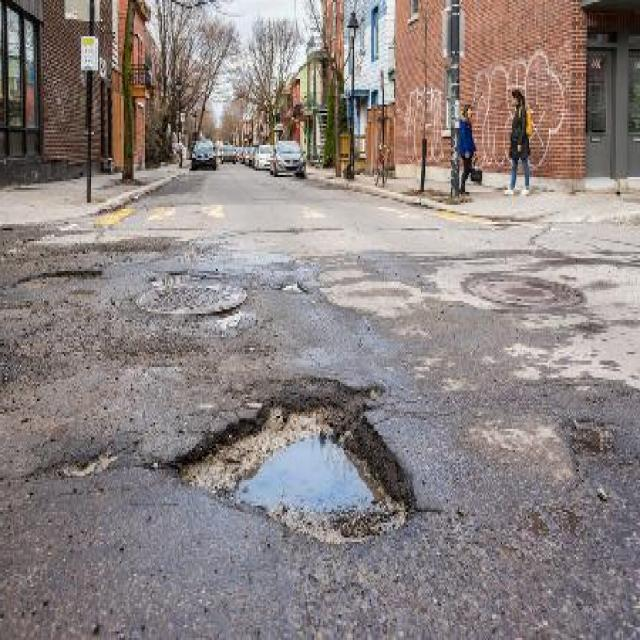pothole: (173, 371, 421, 548), (560, 412, 622, 467), (11, 262, 106, 294), (57, 444, 119, 481), (276, 275, 310, 297)
